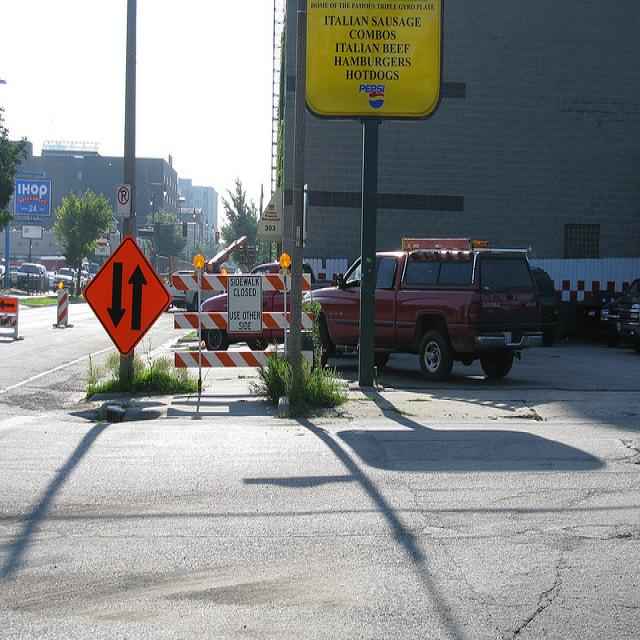Vehicle: (302, 238, 544, 380), (312, 234, 547, 380), (198, 262, 290, 352), (584, 278, 640, 352), (531, 265, 559, 347), (54, 268, 85, 294), (18, 260, 50, 279), (262, 291, 284, 313), (39, 257, 71, 272), (81, 270, 88, 290), (0, 266, 5, 288)
